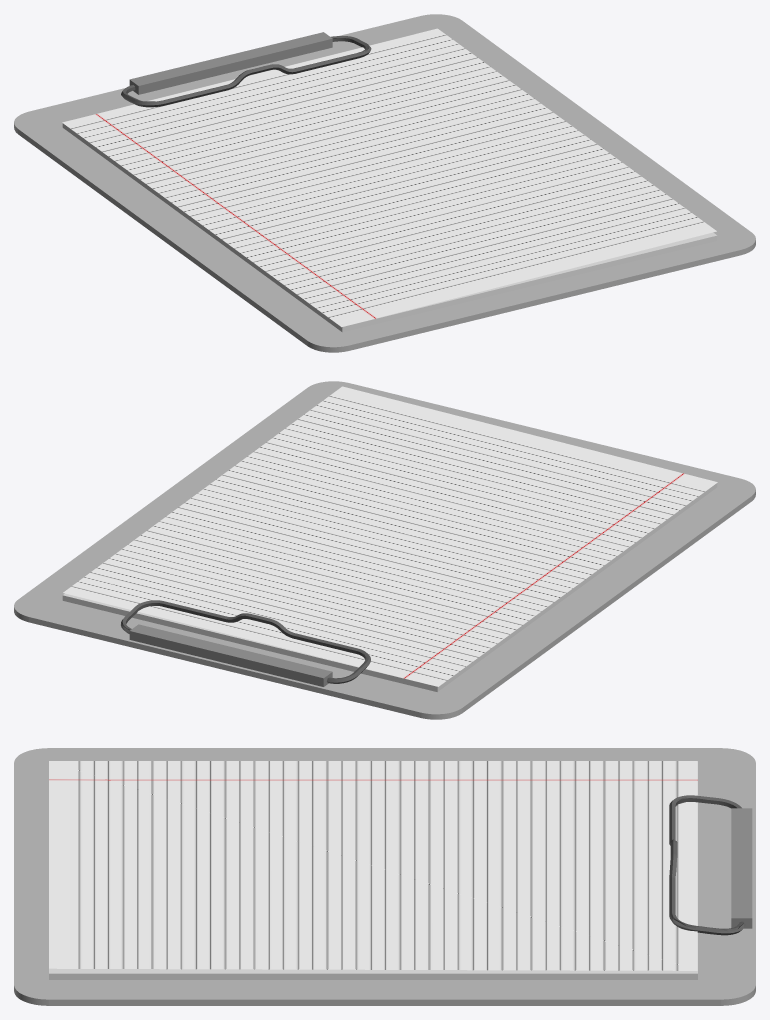
The model's file is Bloc De Notas.glb.
3 renders of one model, top to bottom at view 1: azimuth 30°, elevation 25°; view 2: azimuth 150°, elevation 25°; view 3: azimuth 270°, elevation 25°, orthographic. The views are drawn at different scales.
Parts seen in each view (by area): view 1: 04941ed9-7c37-4cc6-9cc9-a7e173f94c47, a2d8cd61-c5a1-4de9-9673-72165e727713, 6f9e2ebf-b326-49a9-b0e8-7fc3fe6348cf, 67d78be3-8f1a-4fe5-9625-a2c7f587567b, aacd9511-bf1f-44cc-8453-ea13f4adba41; view 2: 04941ed9-7c37-4cc6-9cc9-a7e173f94c47, a2d8cd61-c5a1-4de9-9673-72165e727713, 6f9e2ebf-b326-49a9-b0e8-7fc3fe6348cf, 67d78be3-8f1a-4fe5-9625-a2c7f587567b, aacd9511-bf1f-44cc-8453-ea13f4adba41; view 3: 04941ed9-7c37-4cc6-9cc9-a7e173f94c47, a2d8cd61-c5a1-4de9-9673-72165e727713, 6f9e2ebf-b326-49a9-b0e8-7fc3fe6348cf, 67d78be3-8f1a-4fe5-9625-a2c7f587567b, aacd9511-bf1f-44cc-8453-ea13f4adba41.
Part boxes in pixels (bbox=[...]): 04941ed9-7c37-4cc6-9cc9-a7e173f94c47: bbox=[62, 28, 716, 327]; a2d8cd61-c5a1-4de9-9673-72165e727713: bbox=[14, 14, 755, 352]; 6f9e2ebf-b326-49a9-b0e8-7fc3fe6348cf: bbox=[62, 123, 717, 332]; 67d78be3-8f1a-4fe5-9625-a2c7f587567b: bbox=[129, 32, 332, 94]; aacd9511-bf1f-44cc-8453-ea13f4adba41: bbox=[121, 36, 371, 107]; 04941ed9-7c37-4cc6-9cc9-a7e173f94c47: bbox=[63, 386, 717, 686]; a2d8cd61-c5a1-4de9-9673-72165e727713: bbox=[14, 381, 755, 719]; 6f9e2ebf-b326-49a9-b0e8-7fc3fe6348cf: bbox=[62, 483, 717, 691]; 67d78be3-8f1a-4fe5-9625-a2c7f587567b: bbox=[129, 624, 332, 686]; aacd9511-bf1f-44cc-8453-ea13f4adba41: bbox=[121, 600, 370, 683]; 04941ed9-7c37-4cc6-9cc9-a7e173f94c47: bbox=[49, 761, 697, 970]; a2d8cd61-c5a1-4de9-9673-72165e727713: bbox=[14, 748, 755, 1005]; 6f9e2ebf-b326-49a9-b0e8-7fc3fe6348cf: bbox=[49, 761, 697, 979]; 67d78be3-8f1a-4fe5-9625-a2c7f587567b: bbox=[731, 808, 752, 928]; aacd9511-bf1f-44cc-8453-ea13f4adba41: bbox=[669, 795, 745, 935].
Bounding box in the file's own units: 0.2559 × 0.0154 × 0.3191.
5 materials, 1 textured.
